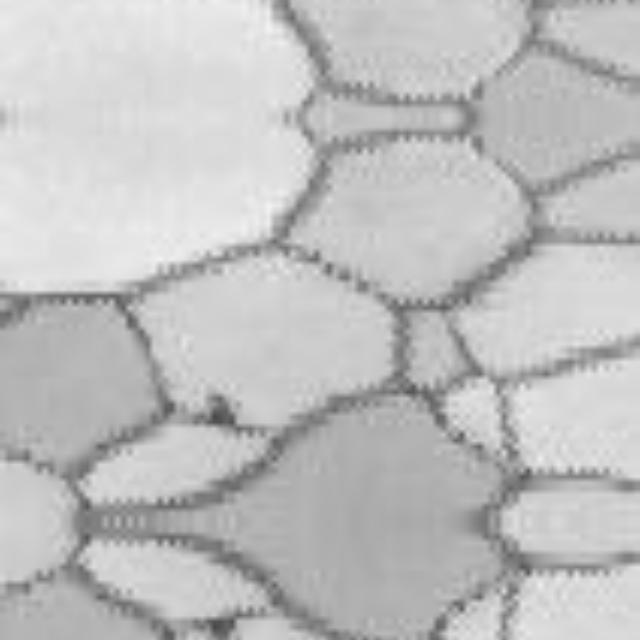good_void: (203, 387, 244, 431), (203, 615, 244, 640)
